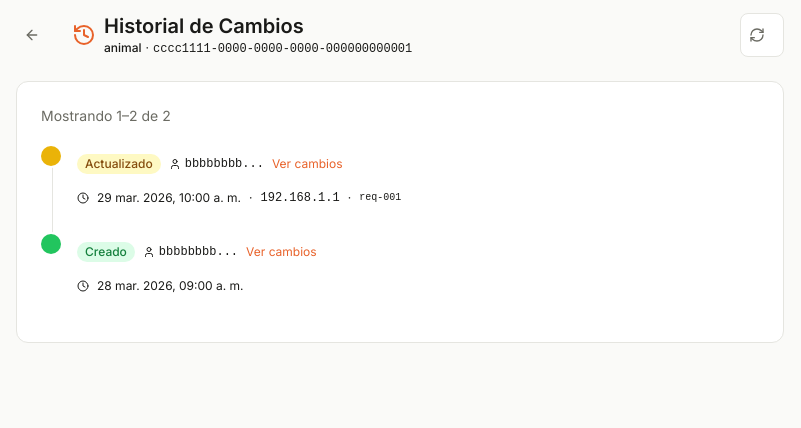
Test: DataChangeHistoryPage › expands diff view on click
Click the button "Ver cambios" in the row of "Actualizado" at [307, 164], box [272, 142, 342, 186]
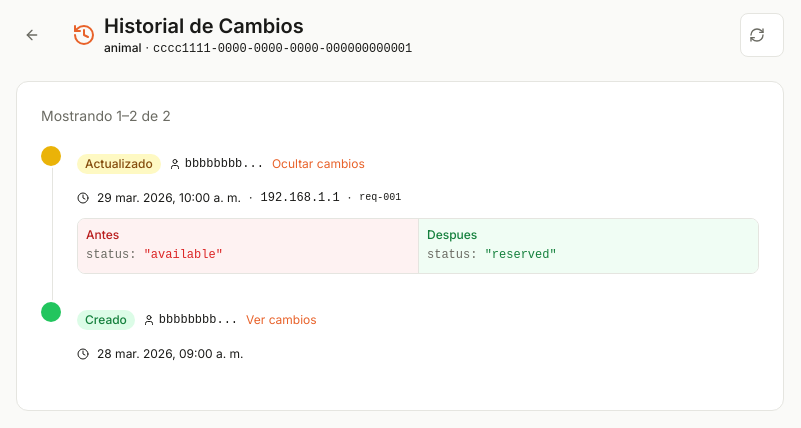
Now the text "Antes" is shown, box [86, 227, 119, 242]
Now the text "Despues" is shown, box [427, 227, 477, 242]
